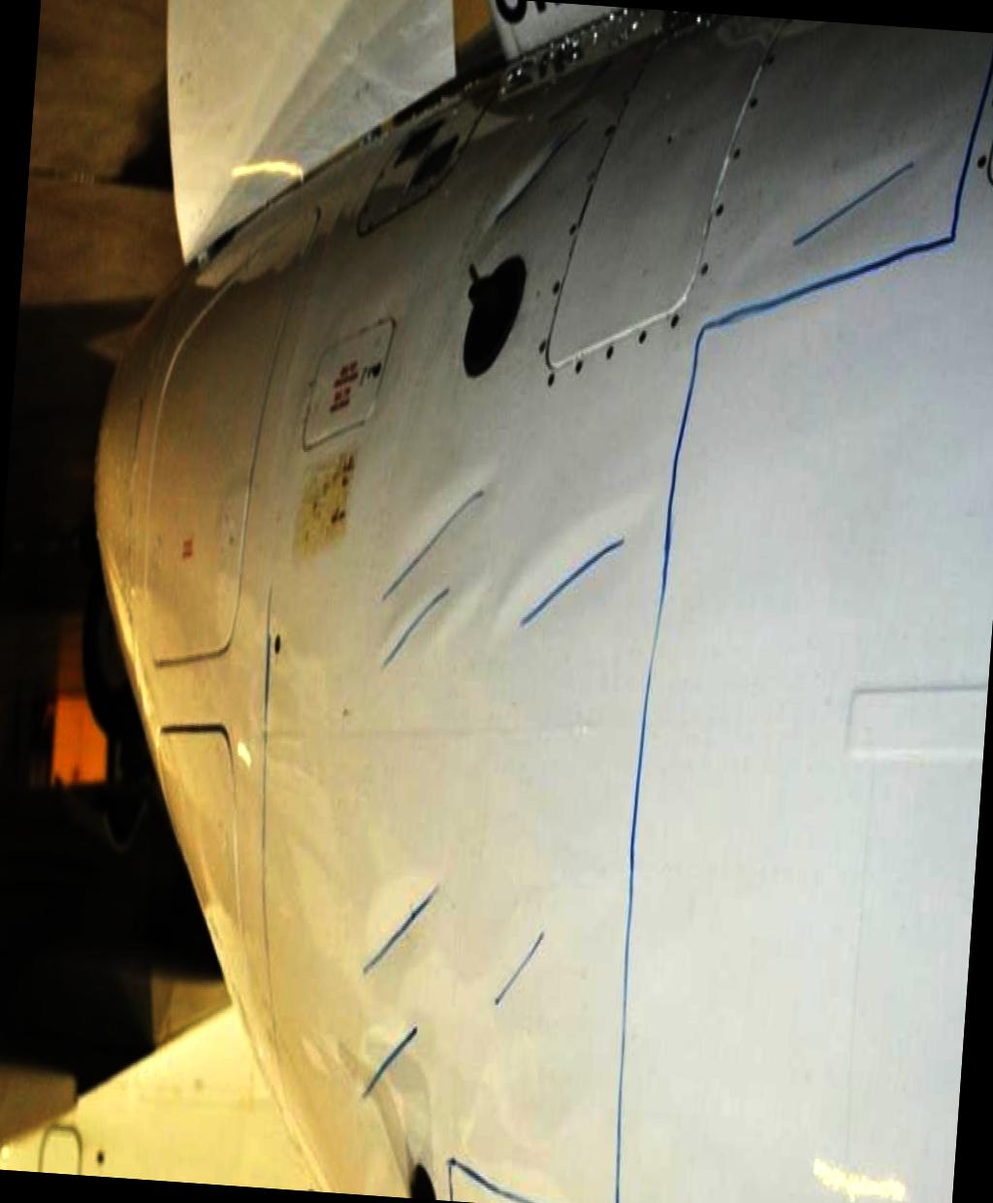dent: (365, 484, 487, 701), (489, 493, 640, 657), (786, 134, 918, 268), (483, 94, 585, 240), (354, 866, 445, 999), (353, 1028, 429, 1150), (484, 909, 554, 1021)
